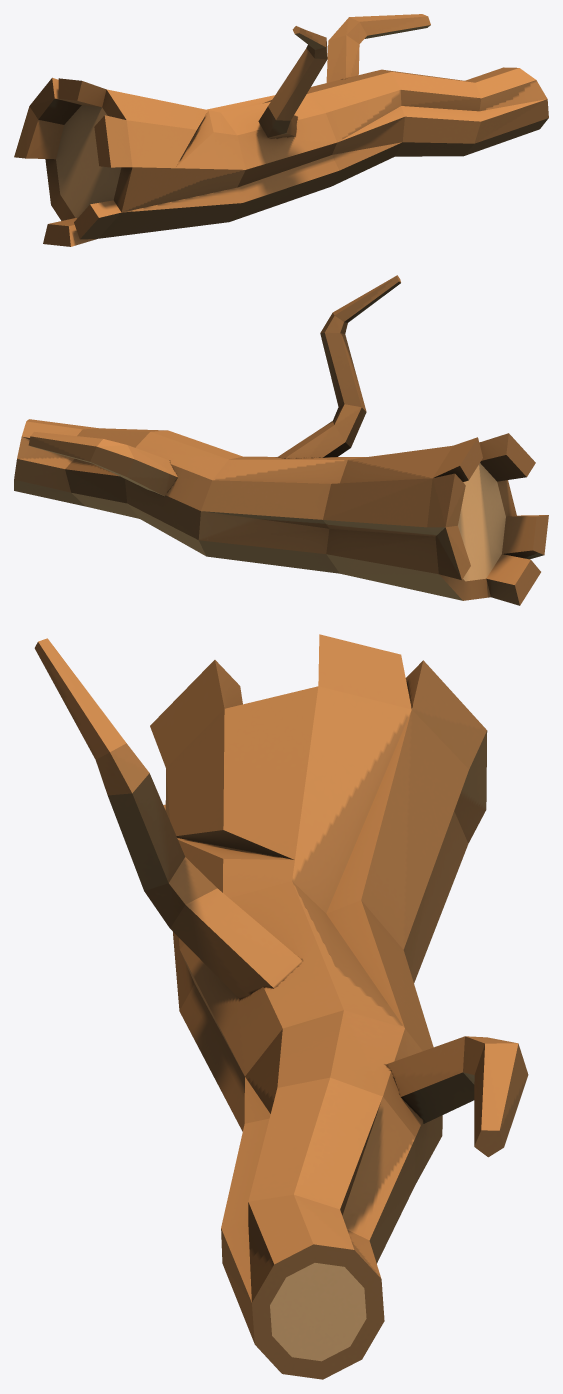
The model's file is Log.glb.
3 views of the same model, one above another, from view 1: azimuth 30°, elevation 25°; view 2: azimuth 150°, elevation 25°; view 3: azimuth 270°, elevation 25° (orthographic). The views are drawn at different scales.
Parts seen in each view (by area): view 1: log; view 2: log; view 3: log.
Part boxes in pixels (<box>): log: <box>14,14,548,246</box>; log: <box>14,275,548,605</box>; log: <box>34,634,528,1379</box>.
Bounding box in the file's own units: 8.04 × 3.69 × 3.51.
Materials: 1 (1 with a texture image).
